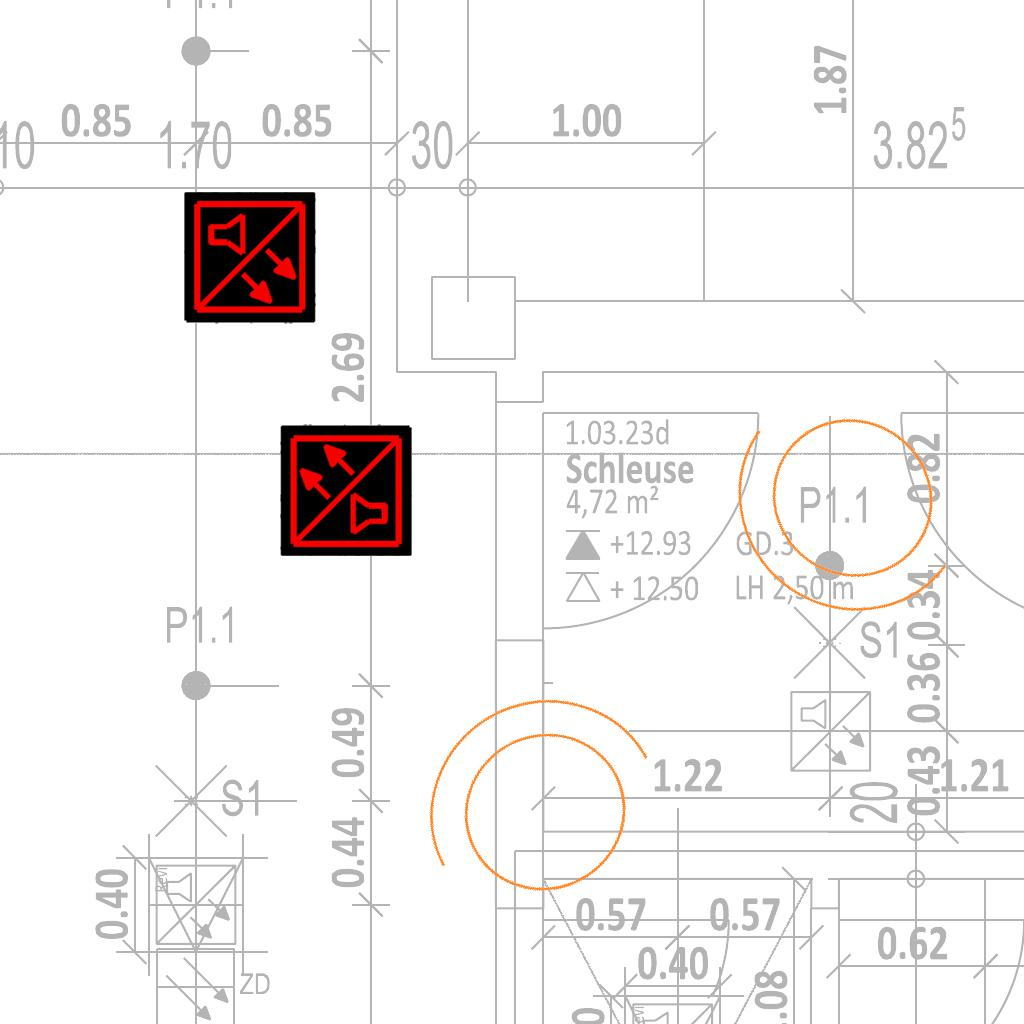OKW_Multisensormelder_(Kombination_optischer_Rauch-Kahlenmonoxid_Waerme-Melder): (280, 424, 412, 556), (184, 192, 316, 324)
Scheinwerfer_fuer_Alarmbeleuchtung: (679, 340, 1024, 679), (365, 645, 705, 968)
